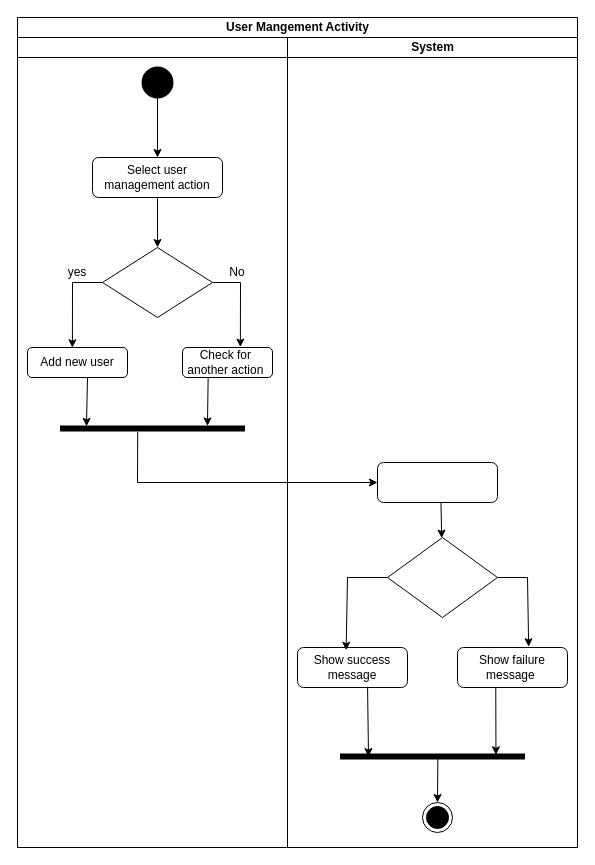
The diagram is 595 pixels wide and 865 high, and some of its shapes have lost their labels. The shapes that lost their labels are listed below. From the top down, each one's box as (x1, y1, x2, y2) in pixels, then its label:
(102, 246, 212, 318): Add a new user?
(16, 36, 288, 848): Admin
(376, 462, 498, 502): Perform selected action
(386, 536, 498, 618): Was the action successful?
